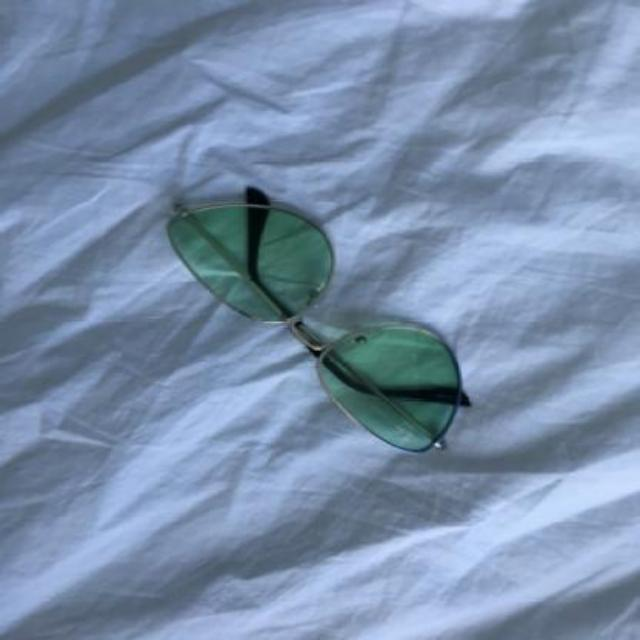glasses: (165, 185, 472, 452)
